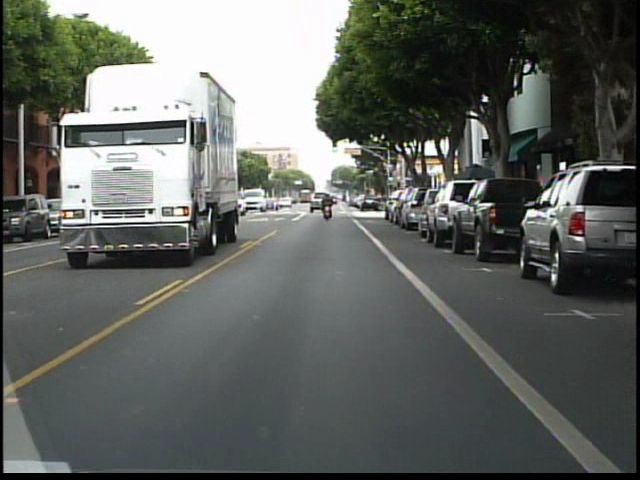person: (322, 192, 336, 223)
